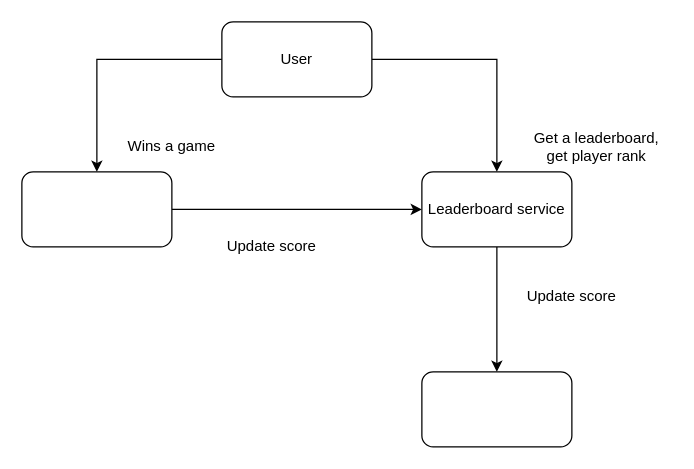
Some shapes in this 694 by 469 pixel diagram are drawn without their labels. The centre of each missing label's shape, as x and y in pixels:
"Game service" goes at (x=96, y=209).
"Leaderboard store" goes at (x=496, y=409).
